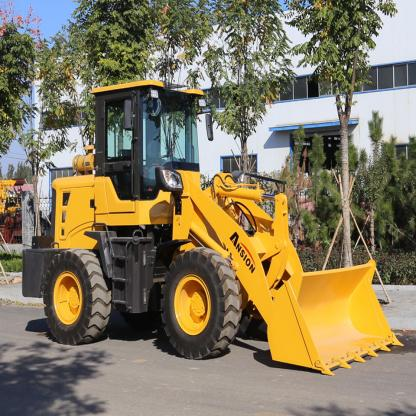bull_dozer/loader/grader: (17, 72, 406, 385)
